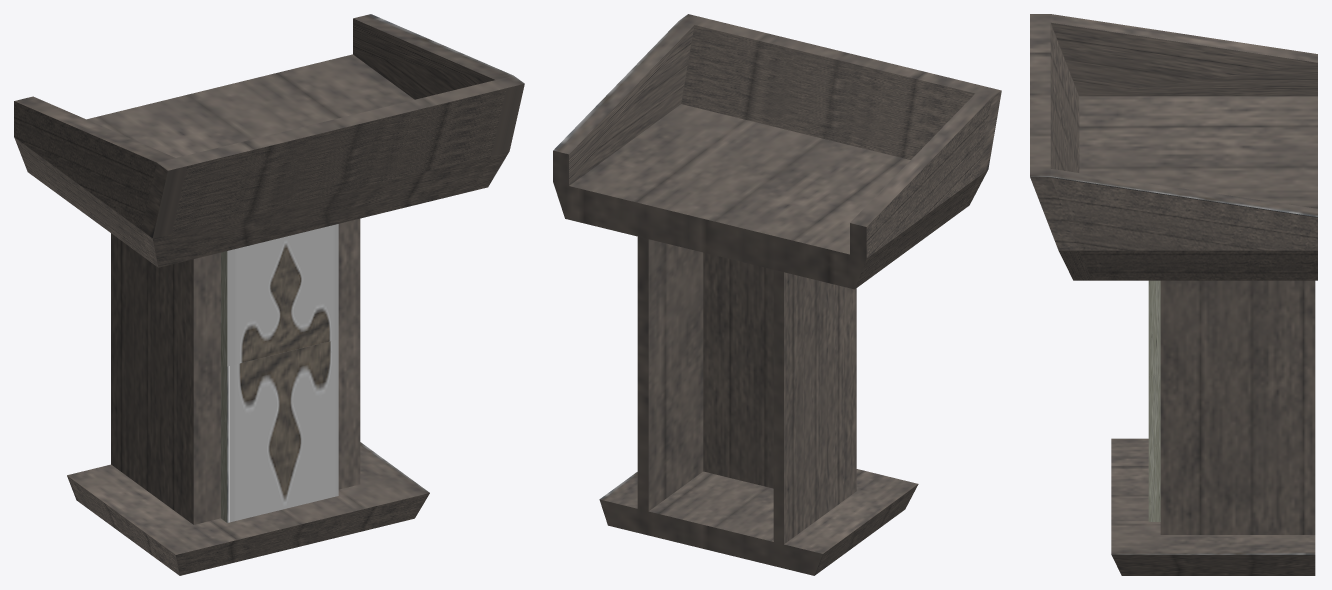
File: podium.fbx
The picture shows the model from 3 angles, left to right: view 1: azimuth 30°, elevation 25°; view 2: azimuth 150°, elevation 25°; view 3: azimuth 270°, elevation 25°; orthographic projection. The views are drawn at different scales.
Parts seen in each view (by area): view 1: Cube.005; view 2: Cube.005; view 3: Cube.005.
Part boxes in pixels (x1,y1,x2,y2): Cube.005: (14, 14, 524, 575); Cube.005: (553, 14, 1001, 575); Cube.005: (1030, 14, 1317, 575).
Bounding box in the file's own units: 398 × 485 × 297.
1 material, 1 textured.
